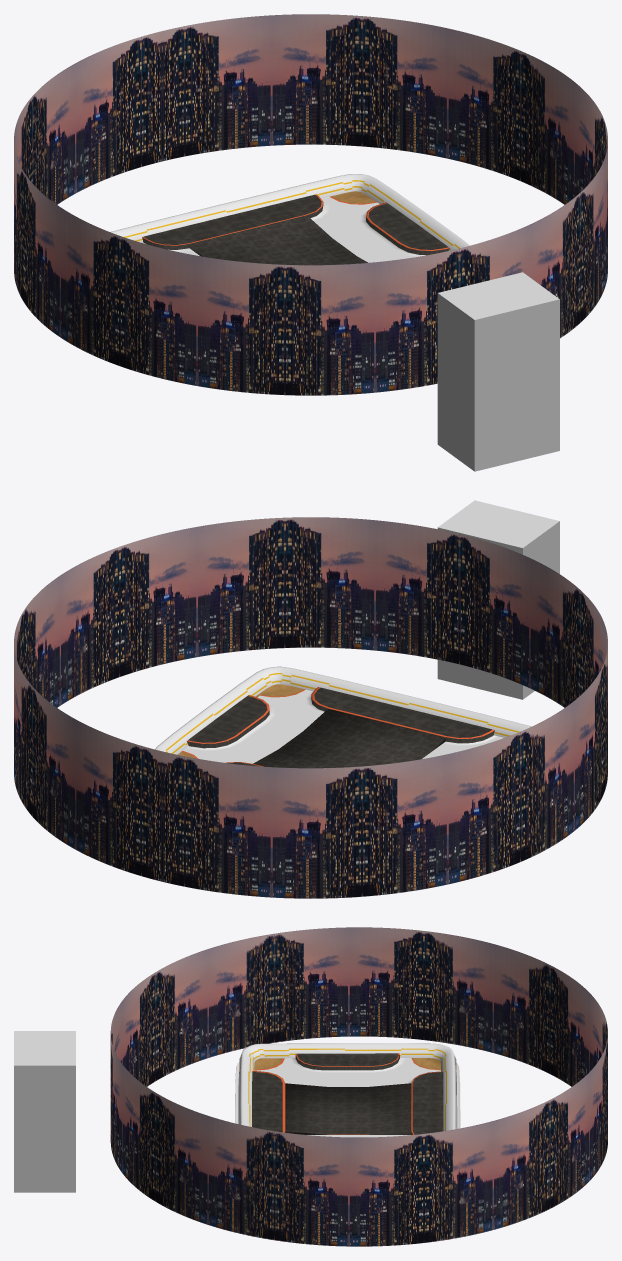
File: Arena03.fbx
3 views of the same model, one above another, from view 1: azimuth 30°, elevation 25°; view 2: azimuth 150°, elevation 25°; view 3: azimuth 270°, elevation 25° (orthographic). The views are drawn at different scales.
Visible parts, largest first — view 1: SkyCylider, Building, Arena03, Border03; view 2: SkyCylider, Arena03, Building, Border03; view 3: SkyCylider, Arena03, Building, Border03.
Part boxes in pixels (left/top/right/bottom): SkyCylider: left=14, top=14, right=607, bottom=395; Building: left=437, top=272, right=559, bottom=471; Arena03: left=142, top=191, right=449, bottom=265; Border03: left=110, top=174, right=469, bottom=250; SkyCylider: left=14, top=517, right=607, bottom=898; Arena03: left=177, top=684, right=503, bottom=768; Building: left=437, top=500, right=559, bottom=699; Border03: left=155, top=666, right=531, bottom=754; SkyCylider: left=110, top=927, right=607, bottom=1246; Arena03: left=239, top=1053, right=456, bottom=1137; Building: left=14, top=1031, right=75, bottom=1192; Border03: left=235, top=1043, right=460, bottom=1131.
Bounding box in the file's own units: 710 × 225 × 848.
